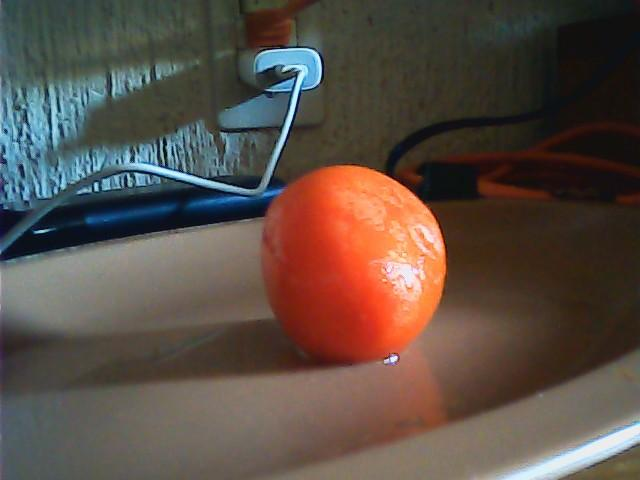maduro: (258, 164, 447, 365)
